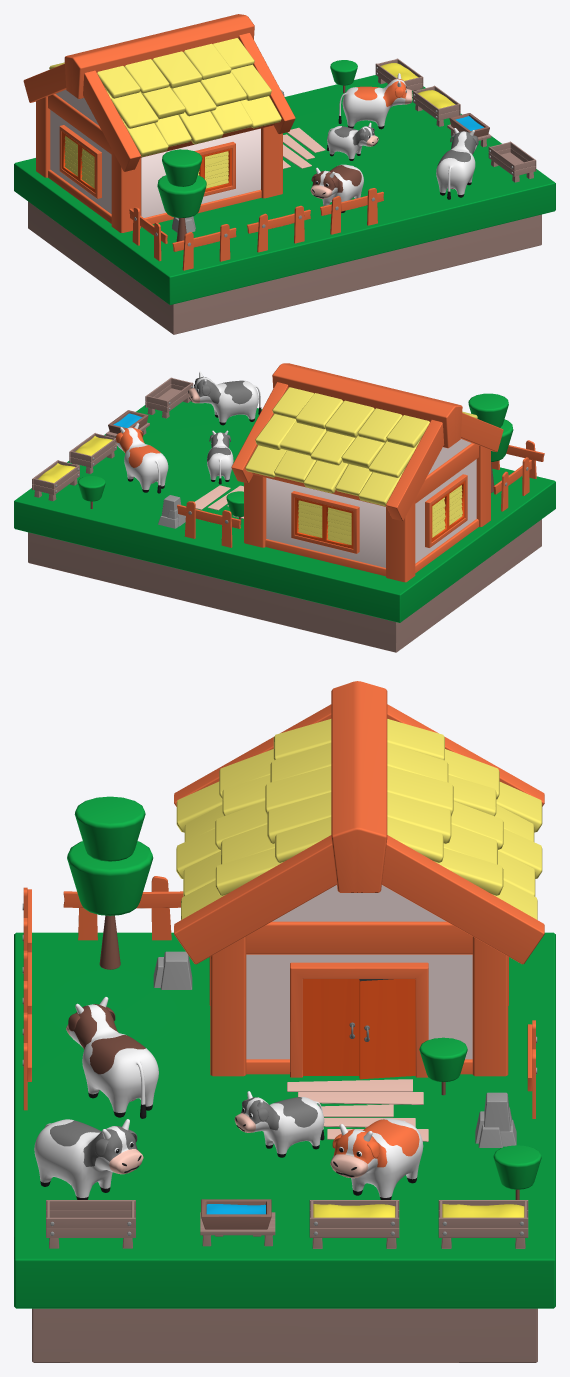
File: Farm_Island_5.glb
The picture shows the model from 3 angles, top to bottom: view 1: azimuth 30°, elevation 25°; view 2: azimuth 150°, elevation 25°; view 3: azimuth 270°, elevation 25°; orthographic projection. The views are drawn at different scales.
Parts seen in each view (by area): view 1: Farm_5_Base_1, Farm_5_Cow_House_1, Farm_5_Tree_1, Farm_5_Cow_4, Farm_5_Cow_3, Farm_5_Cow_2, Farm_5_Cow_1, Farm_5_Box_1, Farm_5_Fence_1, Farm_5_Fence_2, Farm_5_Fence_3, Farm_5_Full_Box_2 (+5 smaller); view 2: Farm_5_Base_1, Farm_5_Cow_House_1, Farm_5_Cow_3, Farm_5_Cow_4, Farm_5_Tree_1, Farm_5_Full_Box_1, Farm_5_Fence_5, Farm_5_Box_1, Farm_5_Full_Box_2, Farm_5_Cow_1, Farm_5_Fence_4, Farm_5_Fence_1 (+5 smaller); view 3: Farm_5_Base_1, Farm_5_Cow_House_1, Farm_5_Tree_1, Farm_5_Cow_2, Farm_5_Cow_3, Farm_5_Cow_4, Farm_5_Path_1, Farm_5_Cow_1, Farm_5_Full_Box_1, Farm_5_Full_Box_2, Farm_5_Box_1, Farm_5_Fence_4 (+6 smaller).
Boxes of the visible parts, left/top/right/bottom form: Farm_5_Base_1: left=14, top=75, right=555, bottom=334; Farm_5_Cow_House_1: left=23, top=14, right=295, bottom=232; Farm_5_Tree_1: left=157, top=149, right=206, bottom=241; Farm_5_Cow_4: left=338, top=73, right=412, bottom=129; Farm_5_Cow_3: left=436, top=128, right=478, bottom=199; Farm_5_Cow_2: left=310, top=164, right=363, bottom=212; Farm_5_Cow_1: left=327, top=122, right=378, bottom=160; Farm_5_Box_1: left=488, top=141, right=536, bottom=182; Farm_5_Fence_1: left=172, top=224, right=236, bottom=270; Farm_5_Fence_2: left=247, top=205, right=310, bottom=252; Farm_5_Fence_3: left=320, top=188, right=383, bottom=234; Farm_5_Full_Box_2: left=413, top=85, right=460, bottom=126; Farm_5_Base_1: left=14, top=401, right=555, bottom=652; Farm_5_Cow_House_1: left=231, top=363, right=503, bottom=582; Farm_5_Cow_3: left=188, top=371, right=261, bottom=425; Farm_5_Cow_4: left=114, top=423, right=168, bottom=493; Farm_5_Tree_1: left=468, top=393, right=513, bottom=492; Farm_5_Full_Box_1: left=32, top=460, right=79, bottom=501; Farm_5_Fence_5: left=177, top=501, right=240, bottom=547; Farm_5_Box_1: left=145, top=377, right=193, bottom=418; Farm_5_Full_Box_2: left=69, top=433, right=116, bottom=473; Farm_5_Cow_1: left=207, top=430, right=233, bottom=484; Farm_5_Fence_4: left=493, top=457, right=531, bottom=511; Farm_5_Fence_1: left=491, top=440, right=544, bottom=478; Farm_5_Base_1: left=14, top=932, right=555, bottom=1362; Farm_5_Cow_House_1: left=174, top=681, right=544, bottom=1079; Farm_5_Tree_1: left=67, top=796, right=153, bottom=969; Farm_5_Cow_2: left=66, top=997, right=158, bottom=1118; Farm_5_Cow_3: left=34, top=1119, right=143, bottom=1199; Farm_5_Cow_4: left=330, top=1118, right=423, bottom=1199; Farm_5_Path_1: left=287, top=1079, right=428, bottom=1141; Farm_5_Cow_1: left=234, top=1091, right=324, bottom=1157; Farm_5_Full_Box_1: left=438, top=1200, right=528, bottom=1248; Farm_5_Full_Box_2: left=309, top=1200, right=399, bottom=1248; Farm_5_Box_1: left=46, top=1200, right=135, bottom=1248; Farm_5_Fence_4: left=63, top=876, right=183, bottom=940.
Size of the model in its own units: 16.02 by 8.33 by 11.2.
Materials: 22 (22 with a texture image).
